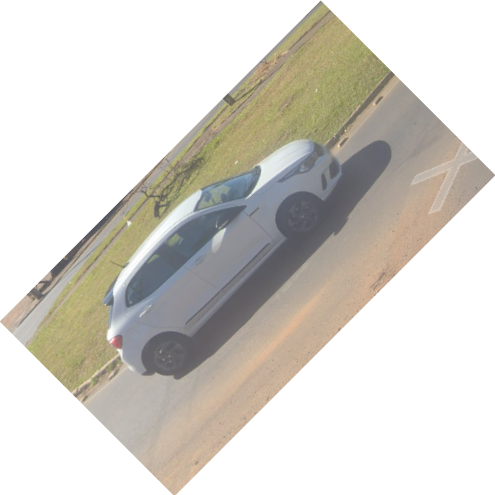car: (99, 134, 351, 383)
